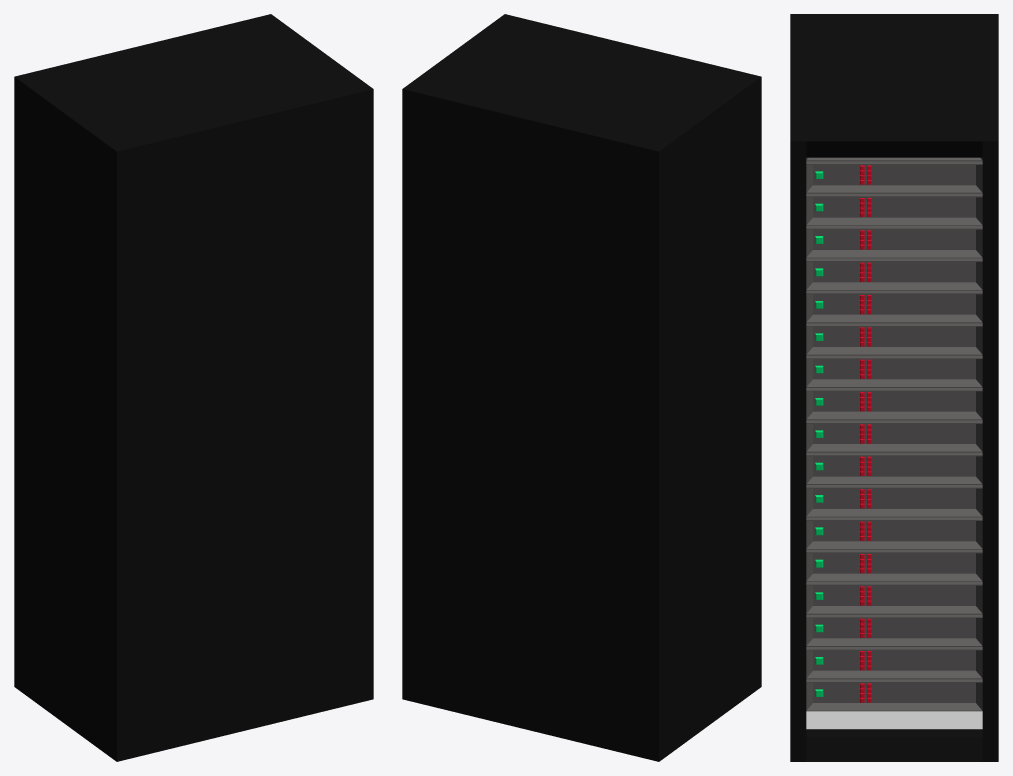
Rendered from server_rack_lod.fbx.
3 renders of one model, left to right at view 1: azimuth 30°, elevation 25°; view 2: azimuth 150°, elevation 25°; view 3: azimuth 270°, elevation 25°, orthographic.
Parts seen in each view (by area): view 1: Server Rack; view 2: Server Rack; view 3: Server Chassis, Server Rack, Cube.
Part boxes in pixels (x1,y1,x2,y2): Server Rack: (14, 14, 373, 761); Server Rack: (402, 14, 761, 761); Server Chassis: (806, 157, 982, 711); Server Rack: (790, 14, 998, 761); Cube: (806, 711, 982, 729).
Size of the model in its own units: 308 by 700 by 213.
